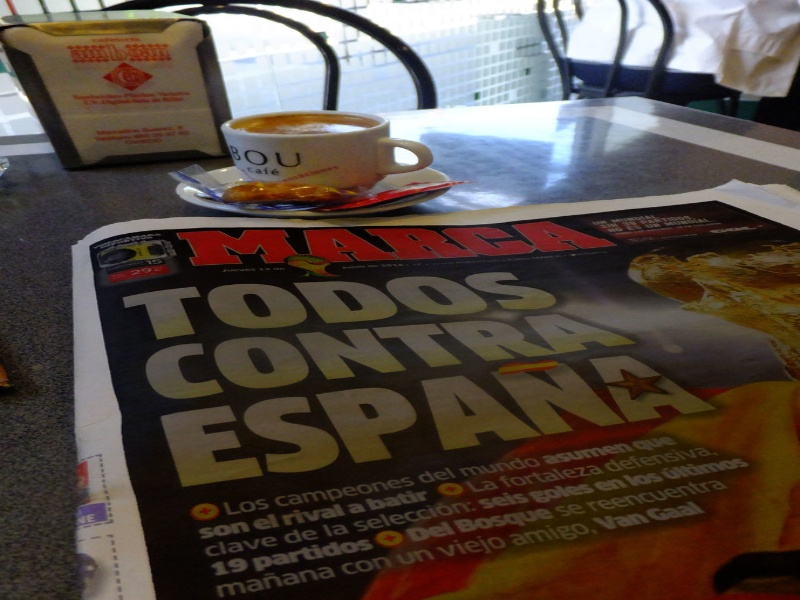cup: (213, 99, 430, 186)
